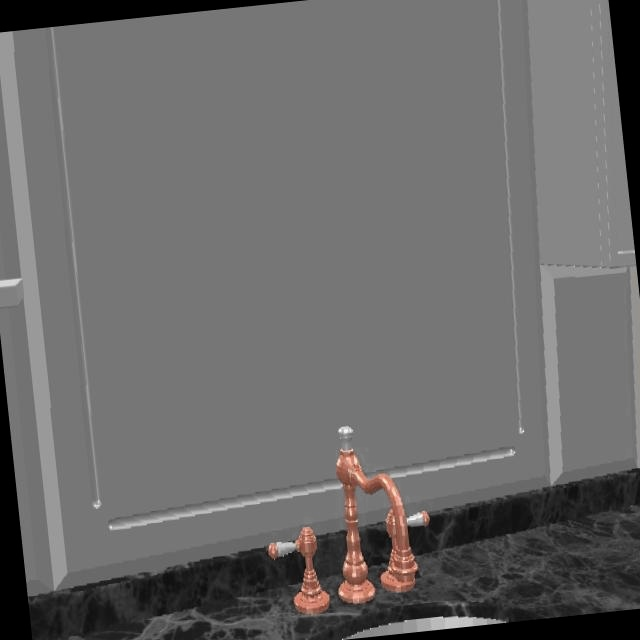washbasin: (357, 614, 500, 637)
